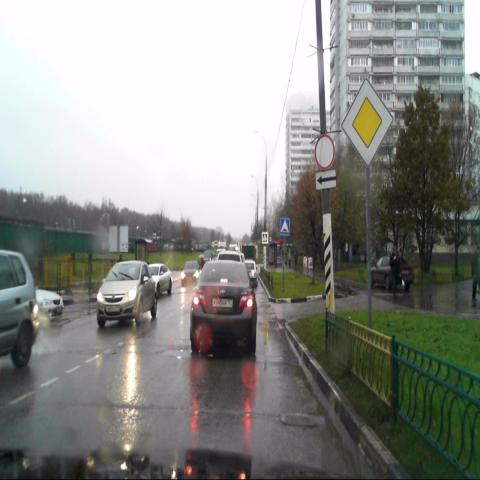3_2: (315, 135, 335, 169)
8_3_2: (315, 169, 336, 190)
